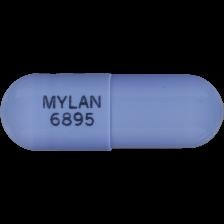0378-6895: (0, 0, 224, 224)
